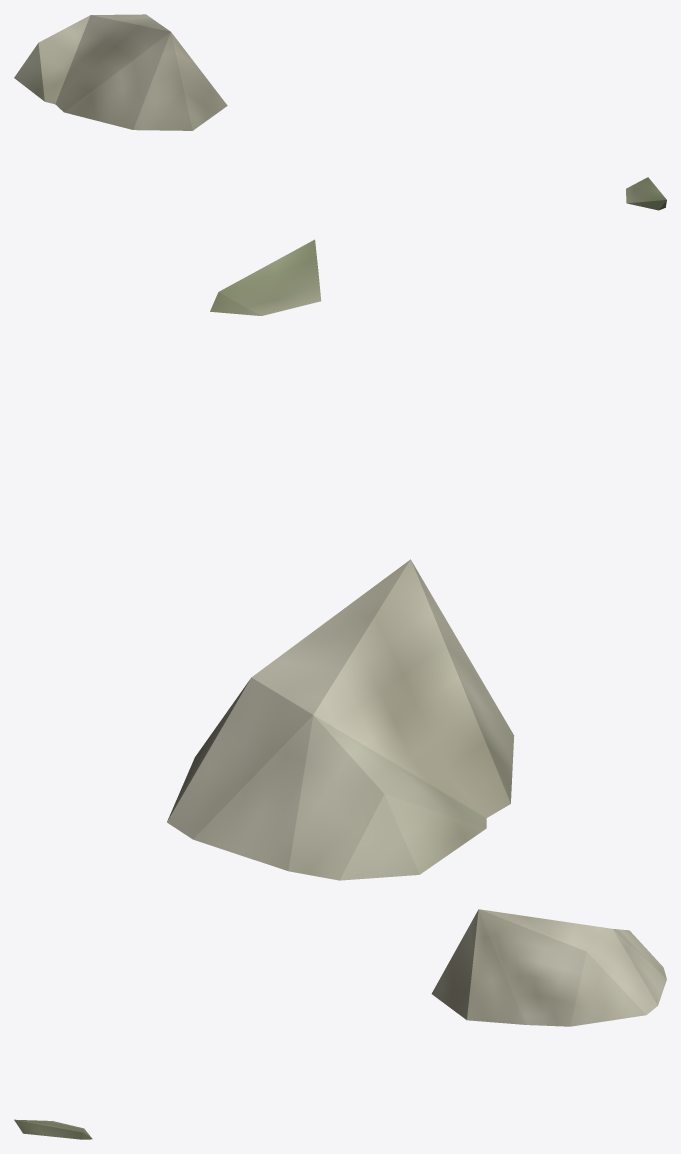
3 views of the same model, one above another, from view 1: azimuth 30°, elevation 25°; view 2: azimuth 150°, elevation 25°; view 3: azimuth 270°, elevation 25° (orthographic). The views are drawn at different scales.
Bounding box in the file's own units: 1.14 × 0.2435 × 1.69.
Materials: 1 (1 with a texture image).
